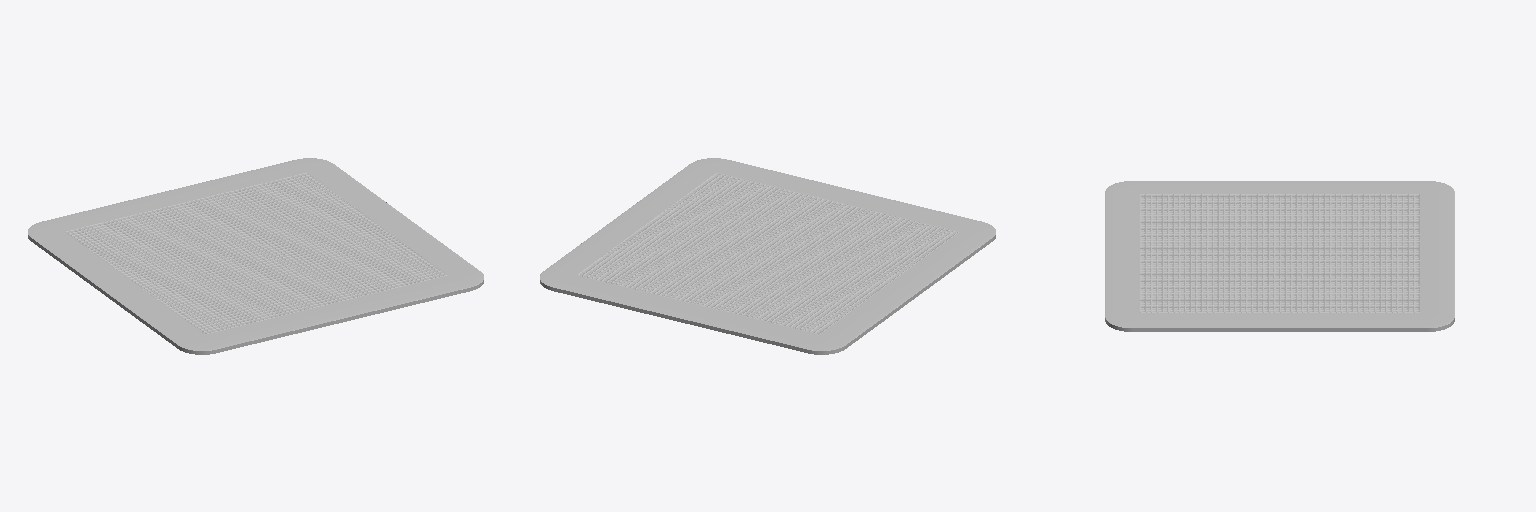
Rendered from PressurePlate5x5_2.obj.
3 renders of one model, left to right at view 1: azimuth 30°, elevation 25°; view 2: azimuth 150°, elevation 25°; view 3: azimuth 270°, elevation 25°, orthographic.
Visible parts, largest first — view 1: Cube.001, Grid.001; view 2: Cube.001, Grid.001; view 3: Cube.001, Grid.001.
Part boxes in pixels (x1,y1,x2,y2): Cube.001: (28,158,483,354); Grid.001: (65,173,446,333); Cube.001: (540,158,995,354); Grid.001: (577,173,958,333); Cube.001: (1105,181,1454,331); Grid.001: (1140,194,1419,312).
Bounding box in the file's own units: 10 × 0.1723 × 10.